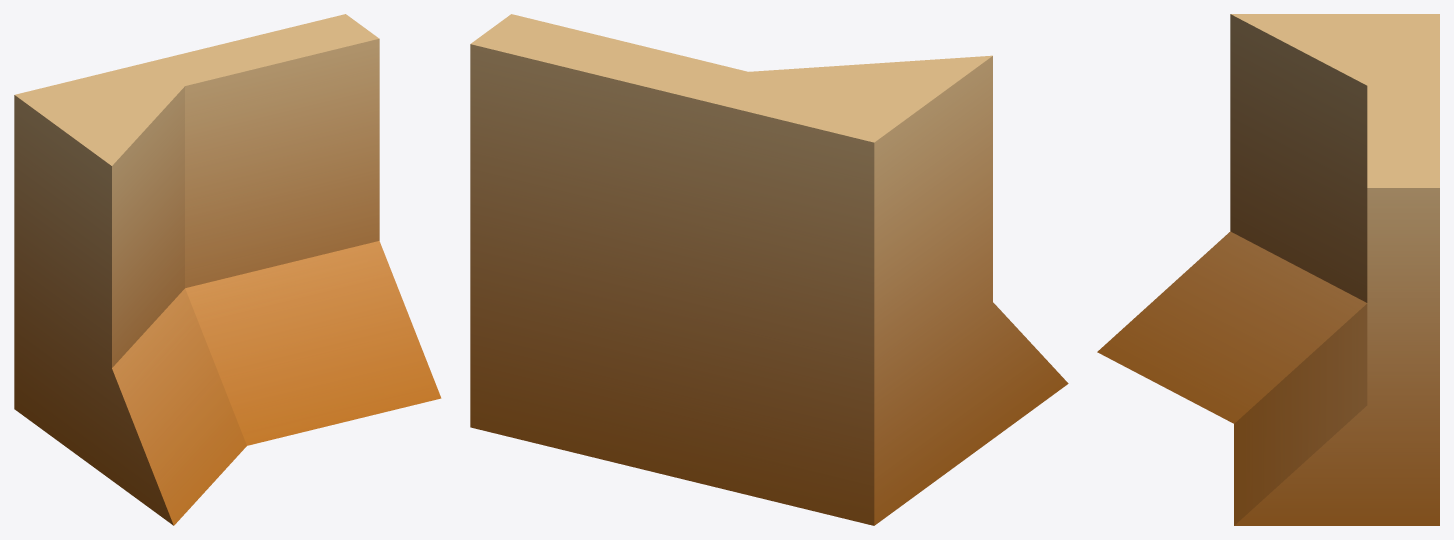
The model's file is corridor_to_bridge_corner.fbx.
3 views of the same model, side by side, from view 1: azimuth 30°, elevation 25°; view 2: azimuth 150°, elevation 25°; view 3: azimuth 270°, elevation 25° (orthographic). The views are drawn at different scales.
Visible parts, largest first — view 1: corridor.to.bridge.corner; view 2: corridor.to.bridge.corner; view 3: corridor.to.bridge.corner.
Boxes of the visible parts, left/top/right/bottom form: corridor.to.bridge.corner: left=14, top=14, right=441, bottom=525; corridor.to.bridge.corner: left=470, top=14, right=1068, bottom=525; corridor.to.bridge.corner: left=1097, top=14, right=1439, bottom=525.
Size of the model in its own units: 30 by 27.2 by 25.01.
